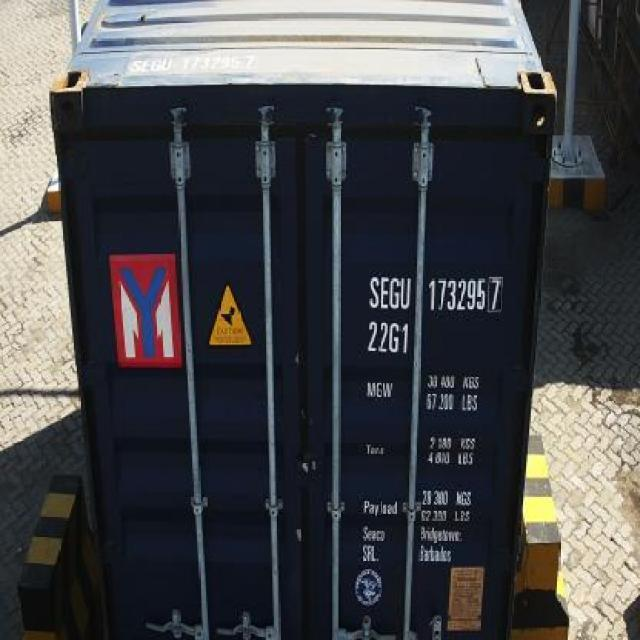ISO: (366, 321, 419, 356)
container_number: (366, 273, 509, 313)
